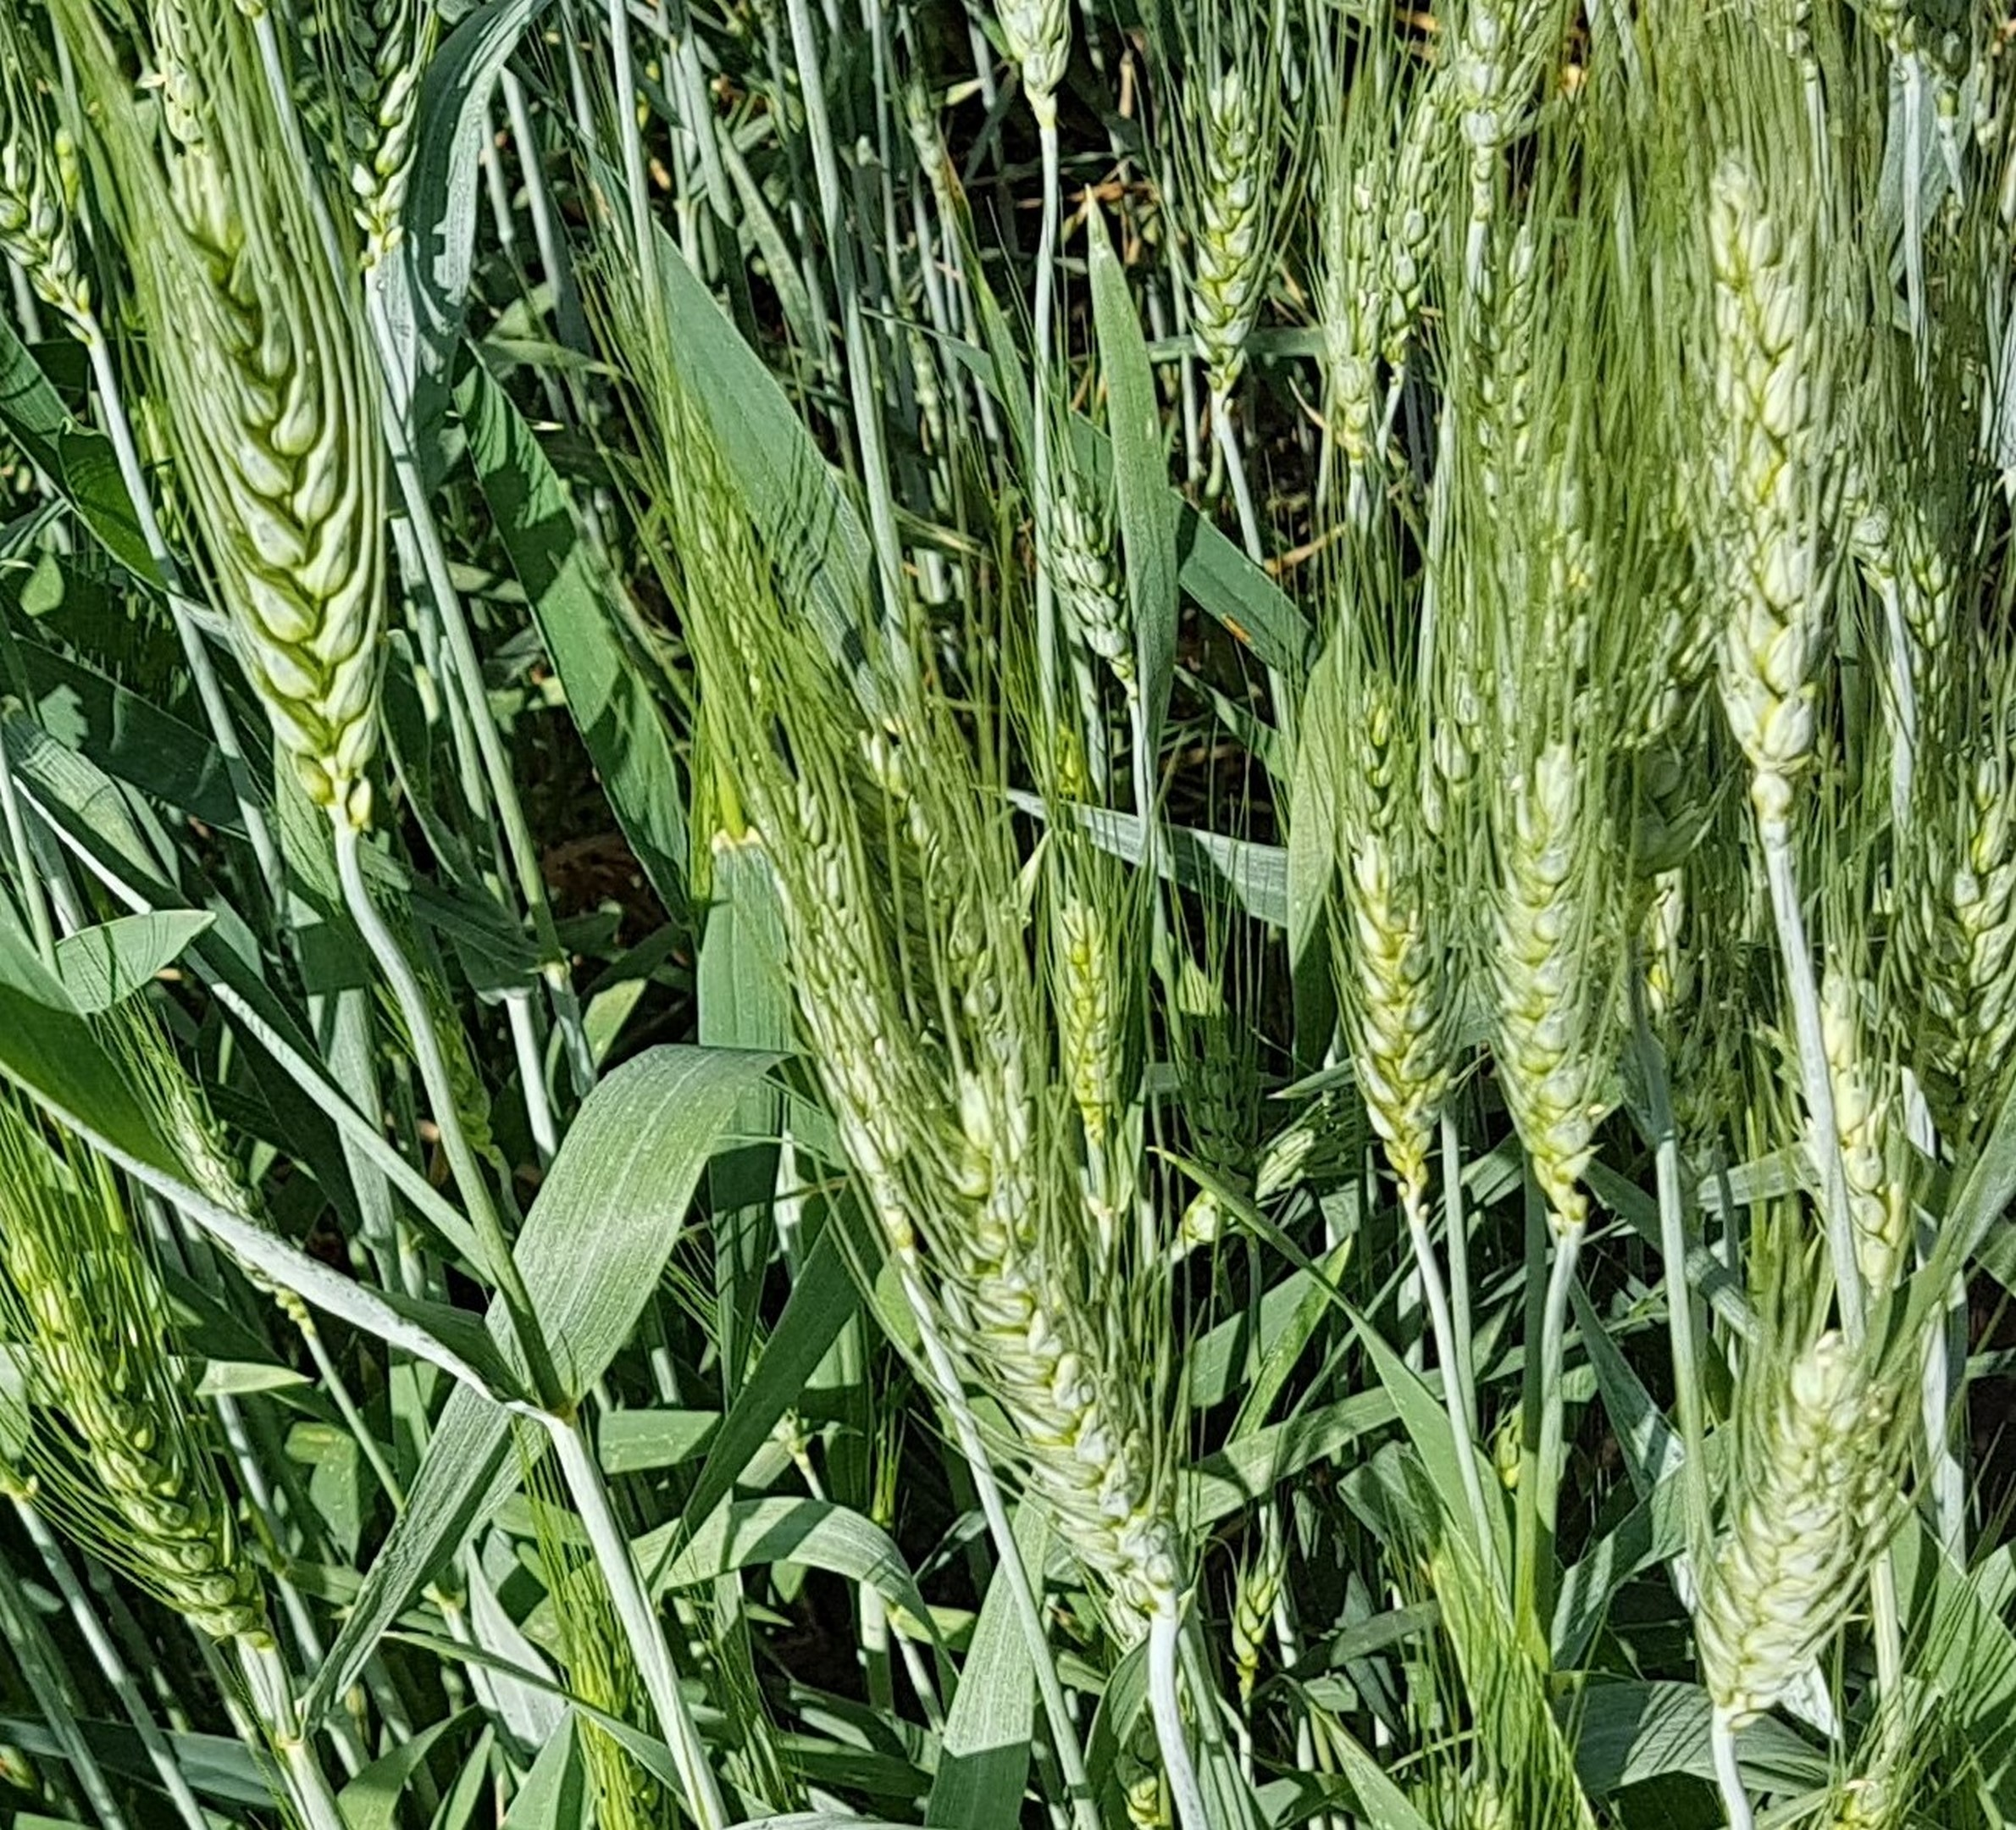Healthy Wheat: (135, 148, 448, 838), (1333, 757, 1654, 1214), (947, 1184, 1199, 1625), (1674, 1336, 1935, 1733)
